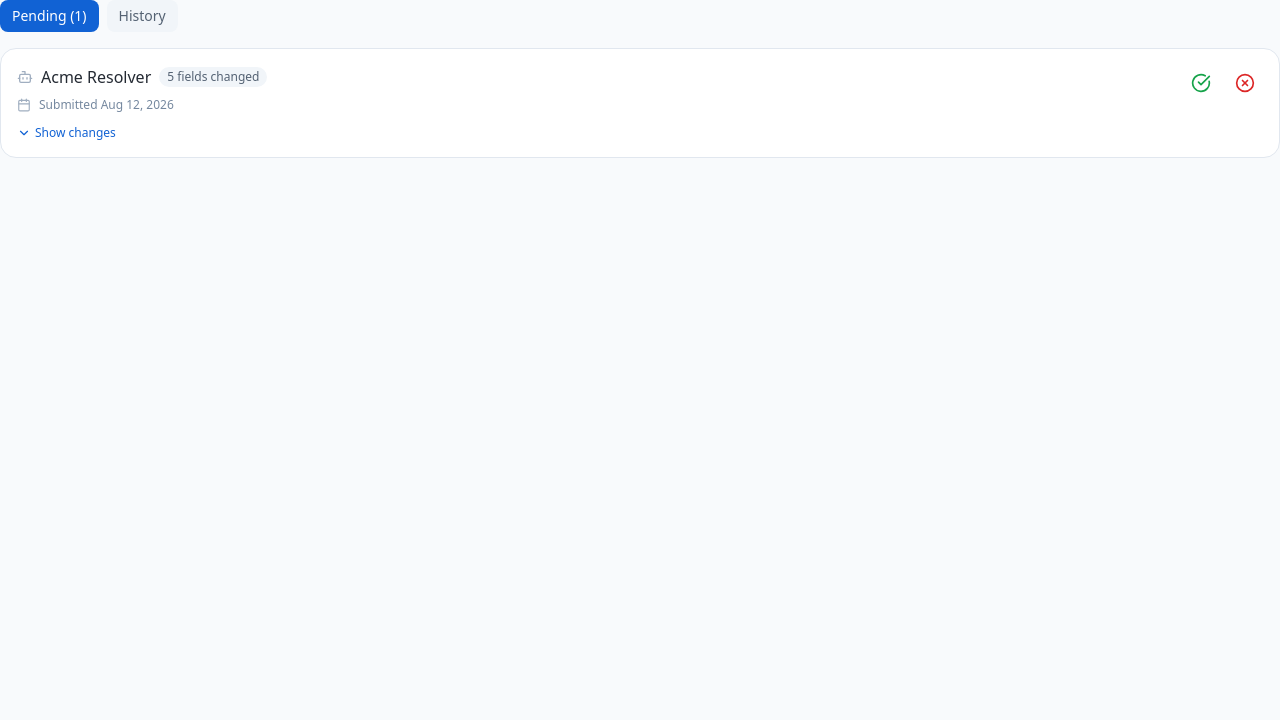
it: AdminAgentEditsTab › renders readable before/after diffs for arrays and use cases
Check: the text "5 fields changed" is shown, box [159,67,268,87]
Click the button "Show changes". click: (66,133)
box: [17,125,116,141]
(page scrolled)
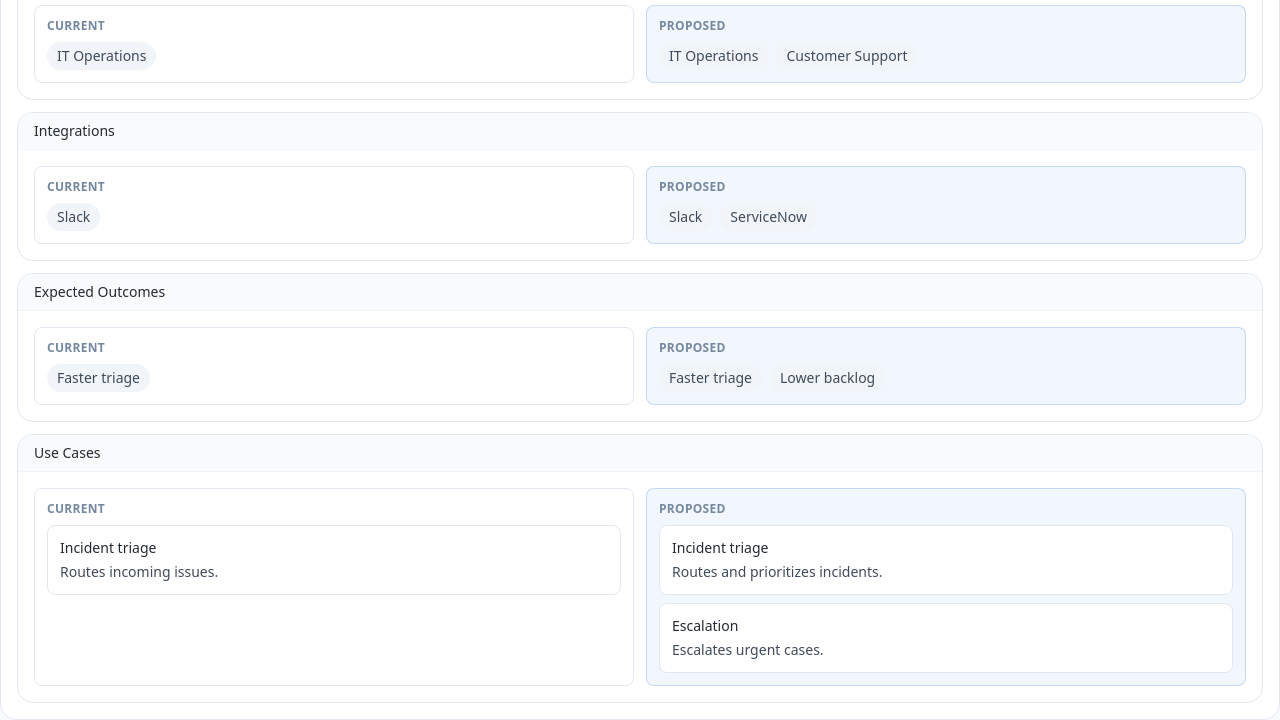
Check: the 1st text "Slack" is shown, box [47,203,100,231]
Check: the text "ServiceNow" is shown, box [720,203,817,231]
Check: the 1st text "Incident triage" is shown, box [60,538,156,557]
